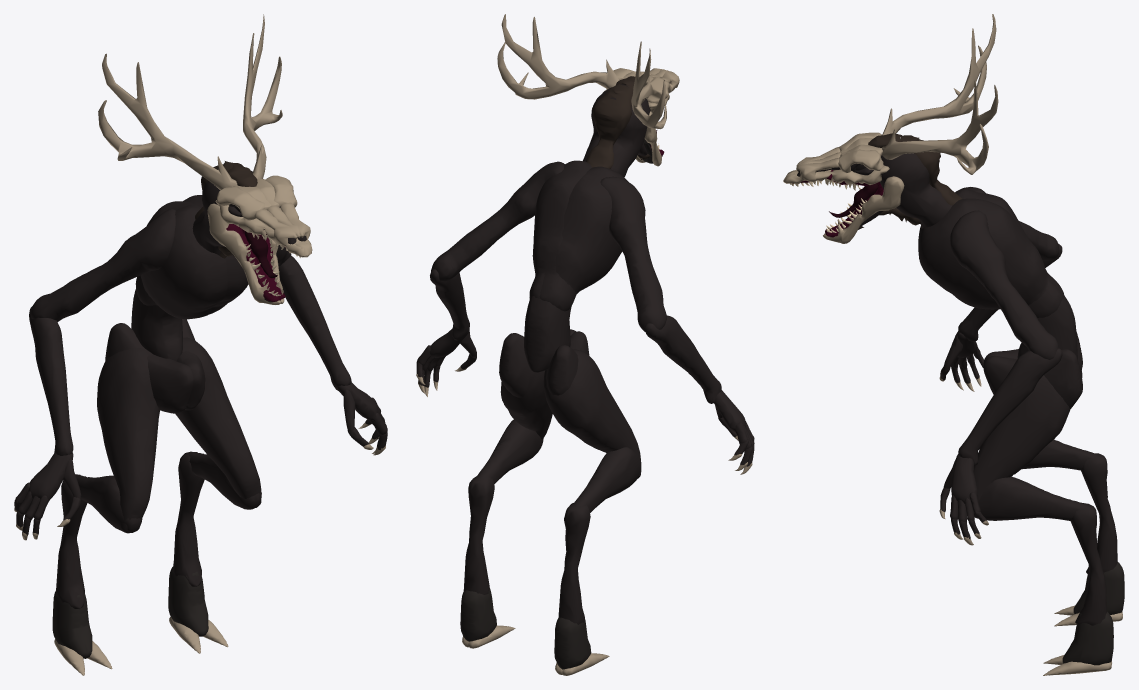
The model's file is wendigo.glb.
The picture shows the model from 3 angles, left to right: view 1: azimuth 30°, elevation 25°; view 2: azimuth 150°, elevation 25°; view 3: azimuth 270°, elevation 25°; orthographic projection. The views are drawn at different scales.
Parts seen in each view (by area): view 1: skin, claw, bone, skin2, mouth, skin3, mouth2; view 2: skin, claw, skin2, skin3, bone; view 3: skin, claw, bone, skin2, skin3.
Part boxes in pixels (x1,y1,x2,y2): skin: (14,171,387,608); claw: (14,14,385,675); bone: (207,175,312,304); skin2: (52,298,272,658); mouth: (226,224,286,301); skin3: (195,161,257,258); mouth2: (244,231,277,278); skin: (416,84,754,624); claw: (416,14,752,675); skin2: (460,139,662,669); skin3: (586,76,649,168); bone: (591,68,679,166); skin: (797,153,1117,625); claw: (881,14,1122,675); bone: (783,132,904,243); skin2: (830,221,1124,665); skin3: (858,133,961,229).
Bounding box in the file's own units: 0.3187 × 0.5383 × 0.2797.
